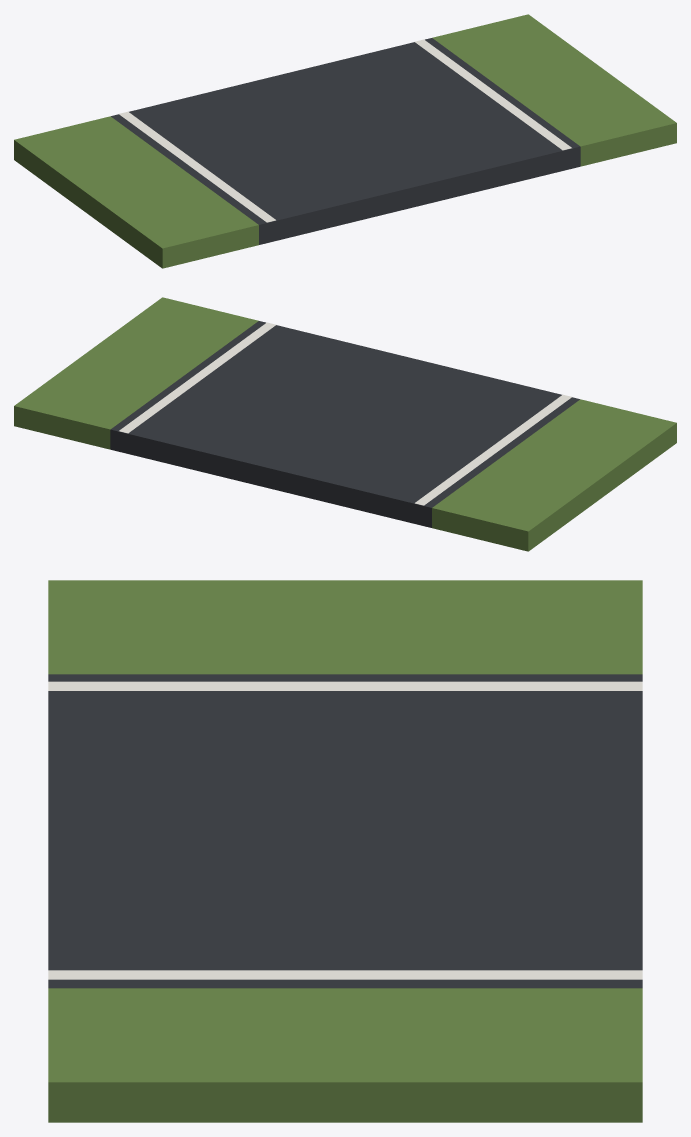
The model's file is HighwayRamp_1Lane_Straight_4m.glb.
3 views of the same model, one above another, from view 1: azimuth 30°, elevation 25°; view 2: azimuth 150°, elevation 25°; view 3: azimuth 270°, elevation 25° (orthographic). The views are drawn at different scales.
Visible parts, largest first — view 1: HighwayRamp_1Lane_Straight_4m_Asphalt, HighwayRamp_1Lane_Straight_4m_Grass-edge, HighwayRamp_1Lane_Straight_4m_PaintWhite; view 2: HighwayRamp_1Lane_Straight_4m_Asphalt, HighwayRamp_1Lane_Straight_4m_Grass-edge, HighwayRamp_1Lane_Straight_4m_PaintWhite; view 3: HighwayRamp_1Lane_Straight_4m_Asphalt, HighwayRamp_1Lane_Straight_4m_Grass-edge, HighwayRamp_1Lane_Straight_4m_PaintWhite.
Part boxes in pixels (left/top/right/bottom): HighwayRamp_1Lane_Straight_4m_Asphalt: left=111, top=38, right=580, bottom=244; HighwayRamp_1Lane_Straight_4m_Grass-edge: left=14, top=14, right=676, bottom=268; HighwayRamp_1Lane_Straight_4m_PaintWhite: left=119, top=39, right=571, bottom=222; HighwayRamp_1Lane_Straight_4m_Asphalt: left=110, top=321, right=579, bottom=527; HighwayRamp_1Lane_Straight_4m_Grass-edge: left=14, top=297, right=676, bottom=551; HighwayRamp_1Lane_Straight_4m_PaintWhite: left=119, top=322, right=571, bottom=505; HighwayRamp_1Lane_Straight_4m_Asphalt: left=48, top=674, right=642, bottom=988; HighwayRamp_1Lane_Straight_4m_Grass-edge: left=48, top=580, right=642, bottom=1122; HighwayRamp_1Lane_Straight_4m_PaintWhite: left=48, top=681, right=642, bottom=979.
Bounding box in the file's own units: 8 × 0.305 × 4.
